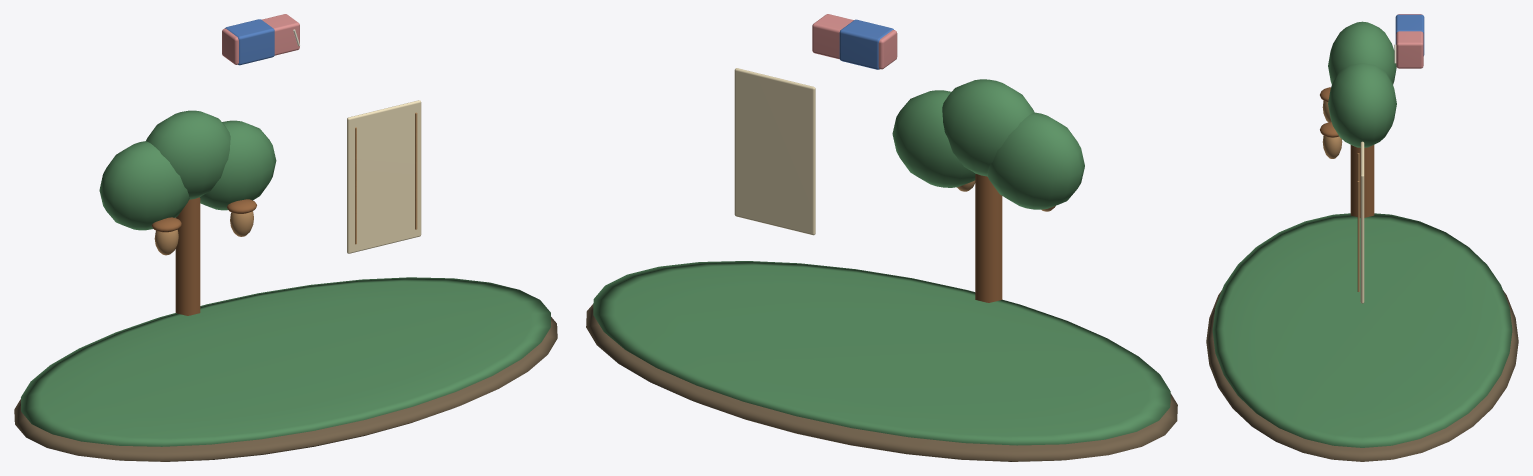
Rendered from complete-third-oak-skin-rubber.glb.
3 renders of one model, left to right at view 1: azimuth 30°, elevation 25°; view 2: azimuth 150°, elevation 25°; view 3: azimuth 270°, elevation 25°, orthographic. The views are drawn at different scales.
Parts seen in each view (by area): view 1: complete-third-oak-skin-rubber_surface_01, complete-third-oak-skin-rubber_surface_04, complete-third-oak-skin-rubber_surface_00, complete-third-oak-skin-rubber_surface_02, complete-third-oak-skin-rubber_surface_03, complete-third-oak-skin-rubber_surface_06, complete-third-oak-skin-rubber_surface_05; view 2: complete-third-oak-skin-rubber_surface_01, complete-third-oak-skin-rubber_surface_04, complete-third-oak-skin-rubber_surface_00, complete-third-oak-skin-rubber_surface_02, complete-third-oak-skin-rubber_surface_06, complete-third-oak-skin-rubber_surface_05; view 3: complete-third-oak-skin-rubber_surface_01, complete-third-oak-skin-rubber_surface_00, complete-third-oak-skin-rubber_surface_02, complete-third-oak-skin-rubber_surface_05, complete-third-oak-skin-rubber_surface_03, complete-third-oak-skin-rubber_surface_04, complete-third-oak-skin-rubber_surface_06.
Boxes of the visible parts, x1,y1,x2,y2 form: complete-third-oak-skin-rubber_surface_01: (21,110,550,446); complete-third-oak-skin-rubber_surface_04: (347,100,421,253); complete-third-oak-skin-rubber_surface_00: (14,317,557,461); complete-third-oak-skin-rubber_surface_02: (151,197,256,315); complete-third-oak-skin-rubber_surface_03: (154,112,417,255); complete-third-oak-skin-rubber_surface_06: (225,19,274,65); complete-third-oak-skin-rubber_surface_05: (222,14,299,64); complete-third-oak-skin-rubber_surface_01: (593,79,1170,445); complete-third-oak-skin-rubber_surface_04: (734,68,815,235); complete-third-oak-skin-rubber_surface_00: (586,304,1177,461); complete-third-oak-skin-rubber_surface_02: (975,174,1002,302); complete-third-oak-skin-rubber_surface_06: (839,19,893,69); complete-third-oak-skin-rubber_surface_05: (812,14,897,69); complete-third-oak-skin-rubber_surface_01: (1212,21,1512,447); complete-third-oak-skin-rubber_surface_00: (1206,290,1518,461); complete-third-oak-skin-rubber_surface_02: (1320,87,1374,217); complete-third-oak-skin-rubber_surface_05: (1396,14,1423,68); complete-third-oak-skin-rubber_surface_03: (1322,101,1359,291); complete-third-oak-skin-rubber_surface_04: (1360,141,1364,303); complete-third-oak-skin-rubber_surface_06: (1395,14,1424,55).
Size of the model in its own units: 4.56 by 2.9 by 2.5.
